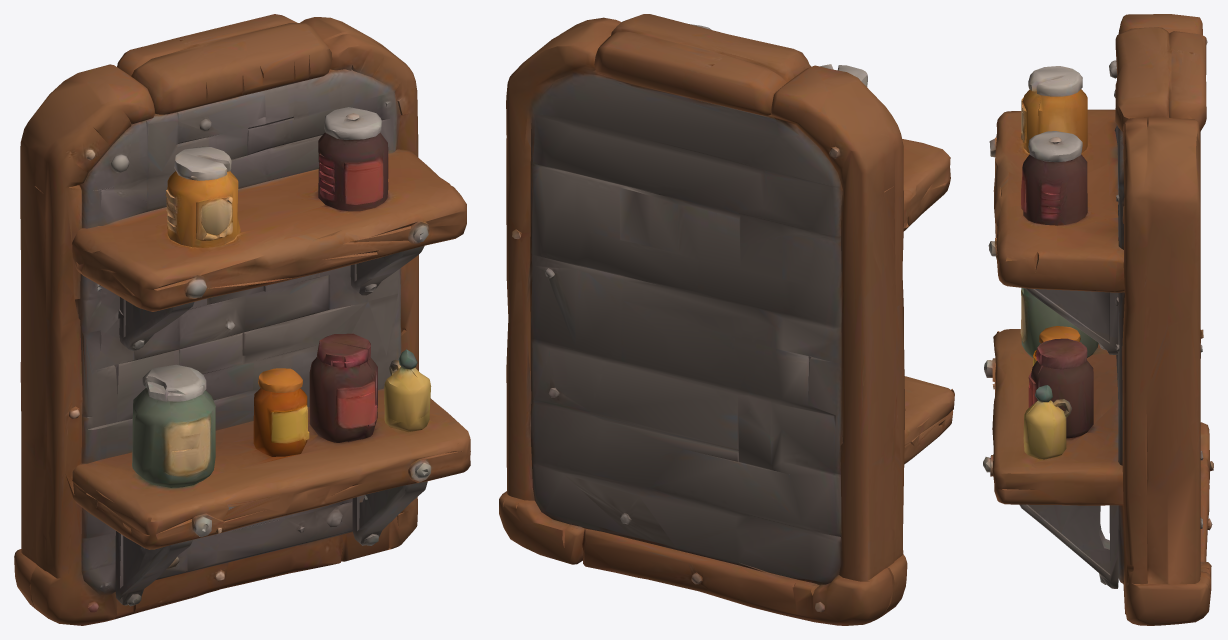
The model's file is wall_shelf_idle.glb.
3 renders of one model, left to right at view 1: azimuth 30°, elevation 25°; view 2: azimuth 150°, elevation 25°; view 3: azimuth 270°, elevation 25°, orthographic. The views are drawn at different scales.
Parts seen in each view (by area): view 1: tripo_node_8df5f6da-3619-4dc9-9a5c-737310ab307e; view 2: tripo_node_8df5f6da-3619-4dc9-9a5c-737310ab307e; view 3: tripo_node_8df5f6da-3619-4dc9-9a5c-737310ab307e.
Part boxes in pixels (bbox=[...]): tripo_node_8df5f6da-3619-4dc9-9a5c-737310ab307e: bbox=[14, 14, 470, 625]; tripo_node_8df5f6da-3619-4dc9-9a5c-737310ab307e: bbox=[499, 14, 954, 625]; tripo_node_8df5f6da-3619-4dc9-9a5c-737310ab307e: bbox=[983, 14, 1213, 625].
Size of the model in its own units: 0.2576 by 0.3501 by 0.1484.
1 material, 1 textured.
